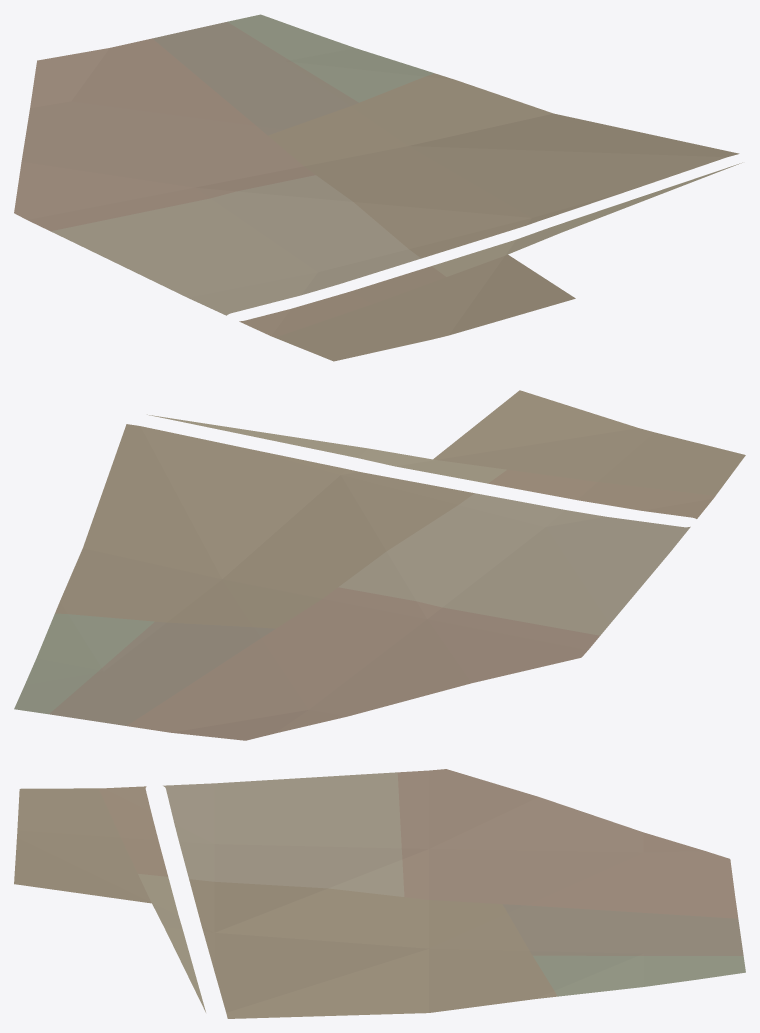
The model's file is farm_13_-1_soil.glb.
The picture shows the model from 3 angles, top to bottom: view 1: azimuth 30°, elevation 25°; view 2: azimuth 150°, elevation 25°; view 3: azimuth 270°, elevation 25°; orthographic projection. The views are drawn at different scales.
Parts seen in each view (by area): view 1: geometry_0; view 2: geometry_0; view 3: geometry_0.
Part boxes in pixels (box(x1,y1,x2,y2)): geometry_0: box(14, 14, 742, 361); geometry_0: box(14, 390, 745, 740); geometry_0: box(14, 769, 745, 1018).
Bounding box in the file's own units: 225 × 17.92 × 273.
